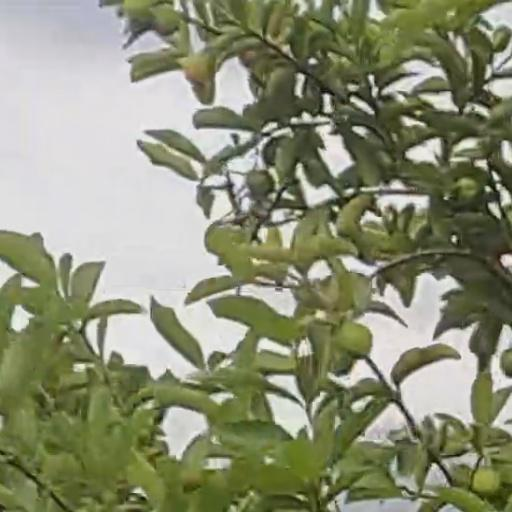acerola_verde: (341, 325, 371, 355), (151, 7, 178, 33)
